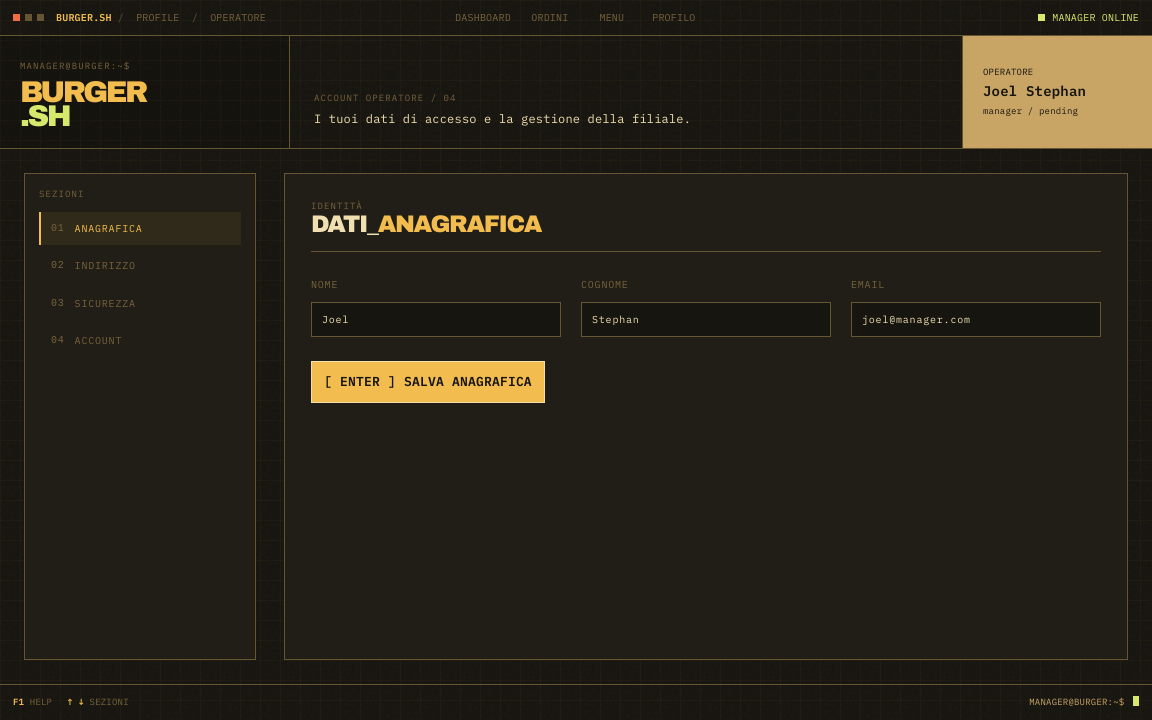
Test: ProfilePage › il manager non vede le preferenze ma vede lo stato di approvazione
Click the tab "04 account" at [140, 341], box x1=39 y1=324 x2=241 y2=358
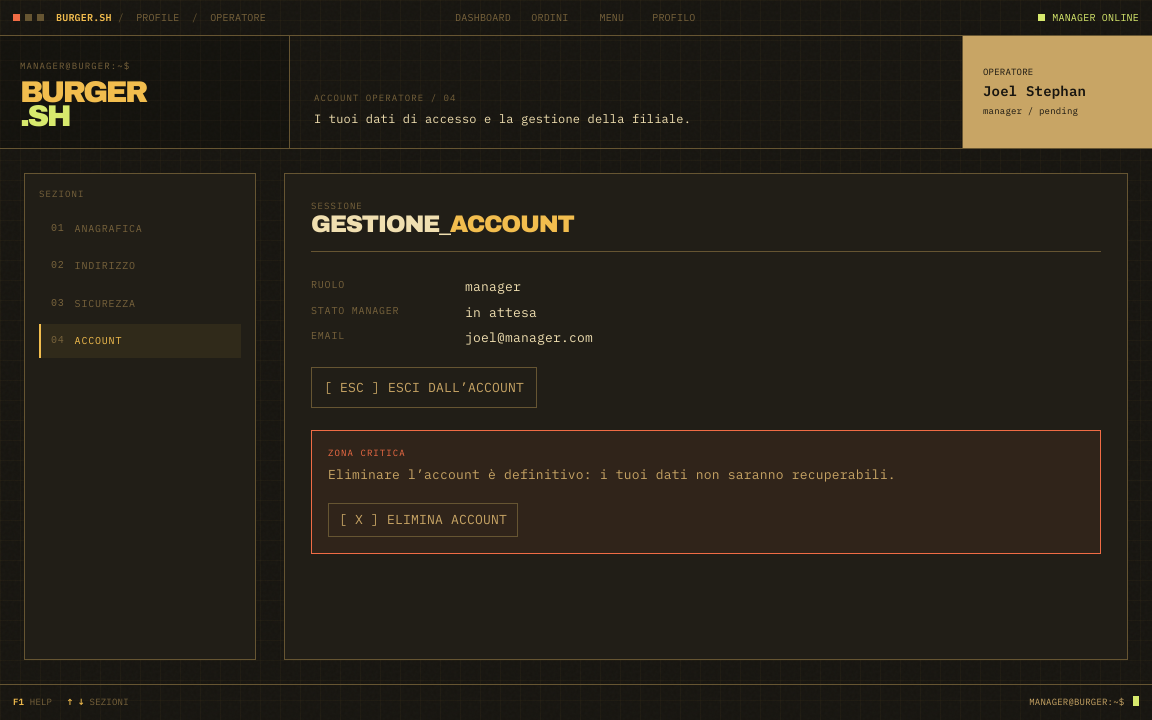
Result: the text "in attesa" is shown at x1=465 y1=304 x2=537 y2=321
